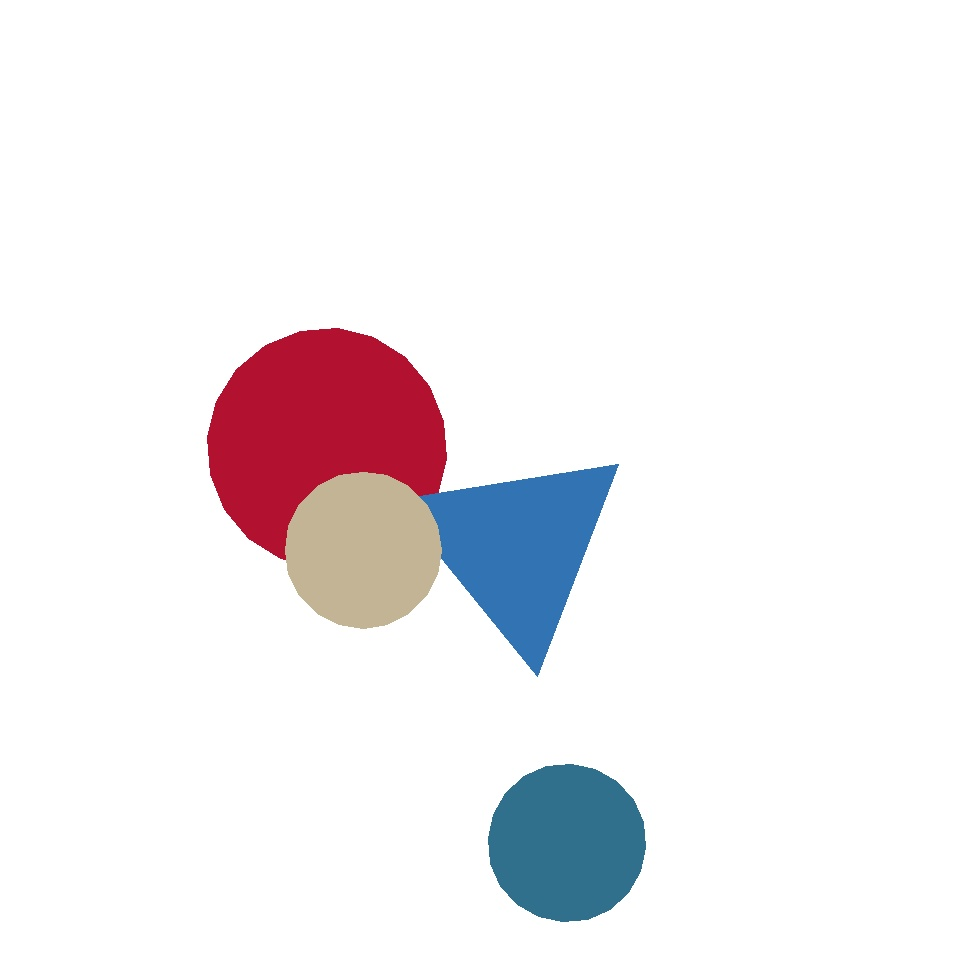circle: (676, 322, 928, 548), (405, 441, 629, 653)
triangle: (101, 496, 434, 830), (208, 328, 446, 568), (488, 764, 646, 922), (285, 472, 441, 628), (136, 638, 259, 762)
